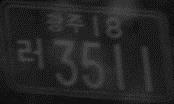1: (139, 42, 155, 94), (111, 42, 127, 92), (91, 13, 101, 38)
3: (53, 37, 78, 86)
5: (80, 39, 107, 92)
8: (105, 14, 122, 40)
광주_O: (45, 11, 85, 35)
러: (16, 35, 45, 73)
